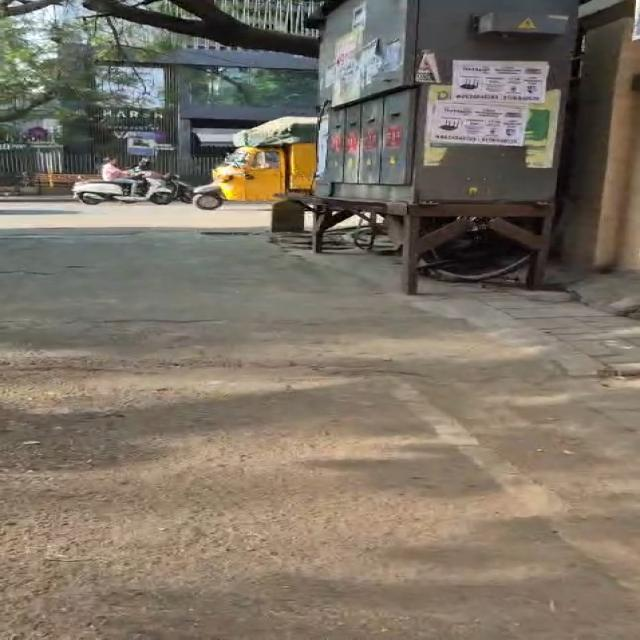obstacle: (31, 173, 100, 188)
vehical: (73, 175, 174, 204), (129, 159, 192, 204), (193, 183, 224, 210)
